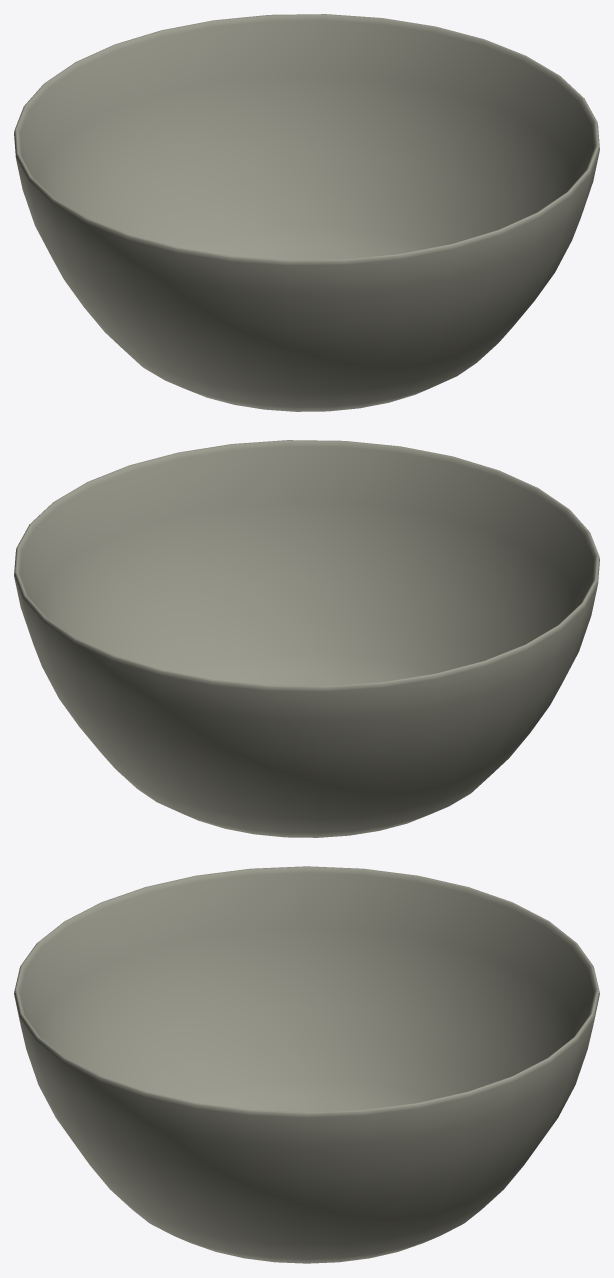
File: Prop_Kitchen_Plate.fbx
3 renders of one model, top to bottom at view 1: azimuth 30°, elevation 25°; view 2: azimuth 150°, elevation 25°; view 3: azimuth 270°, elevation 25°, orthographic.
Parts seen in each view (by area): view 1: Prop_Kitchen_Plate; view 2: Prop_Kitchen_Plate; view 3: Prop_Kitchen_Plate.
Part boxes in pixels (bbox=[...]): Prop_Kitchen_Plate: bbox=[14, 14, 599, 411]; Prop_Kitchen_Plate: bbox=[14, 440, 599, 837]; Prop_Kitchen_Plate: bbox=[14, 866, 599, 1263].
Size of the model in its own units: 16.23 by 6.3 by 16.23.
